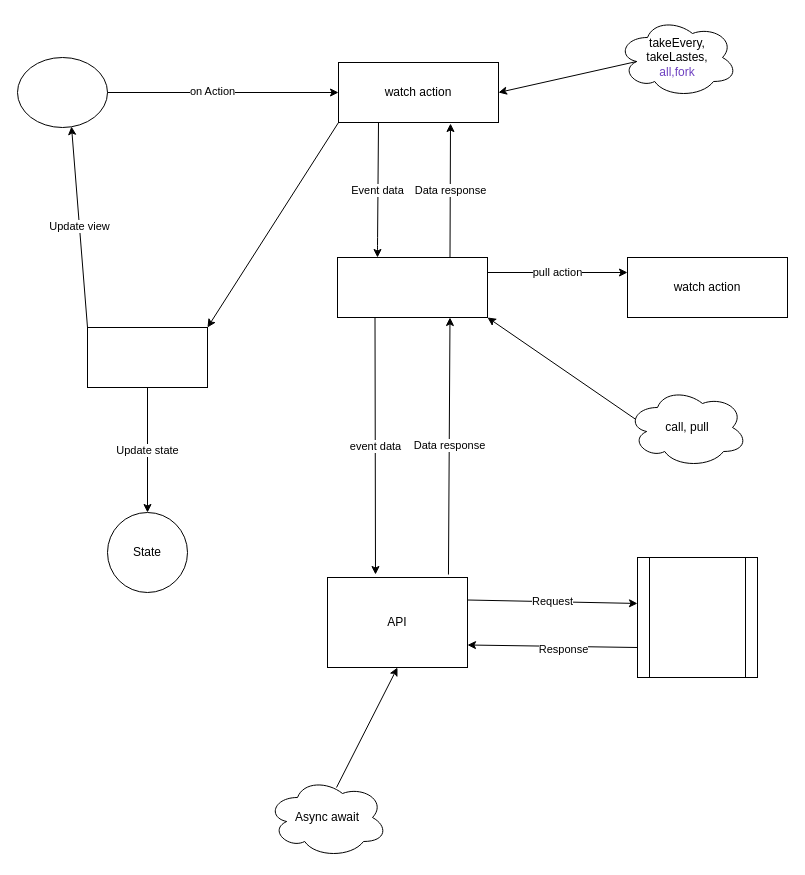
Image size: 805x875. Some labels were removed from this diagram. Each missing label, with the box of its shape:
Call: (336, 256, 488, 318)
Client: (16, 56, 108, 128)
Reducer: (86, 326, 208, 388)
Server: (636, 556, 758, 678)
